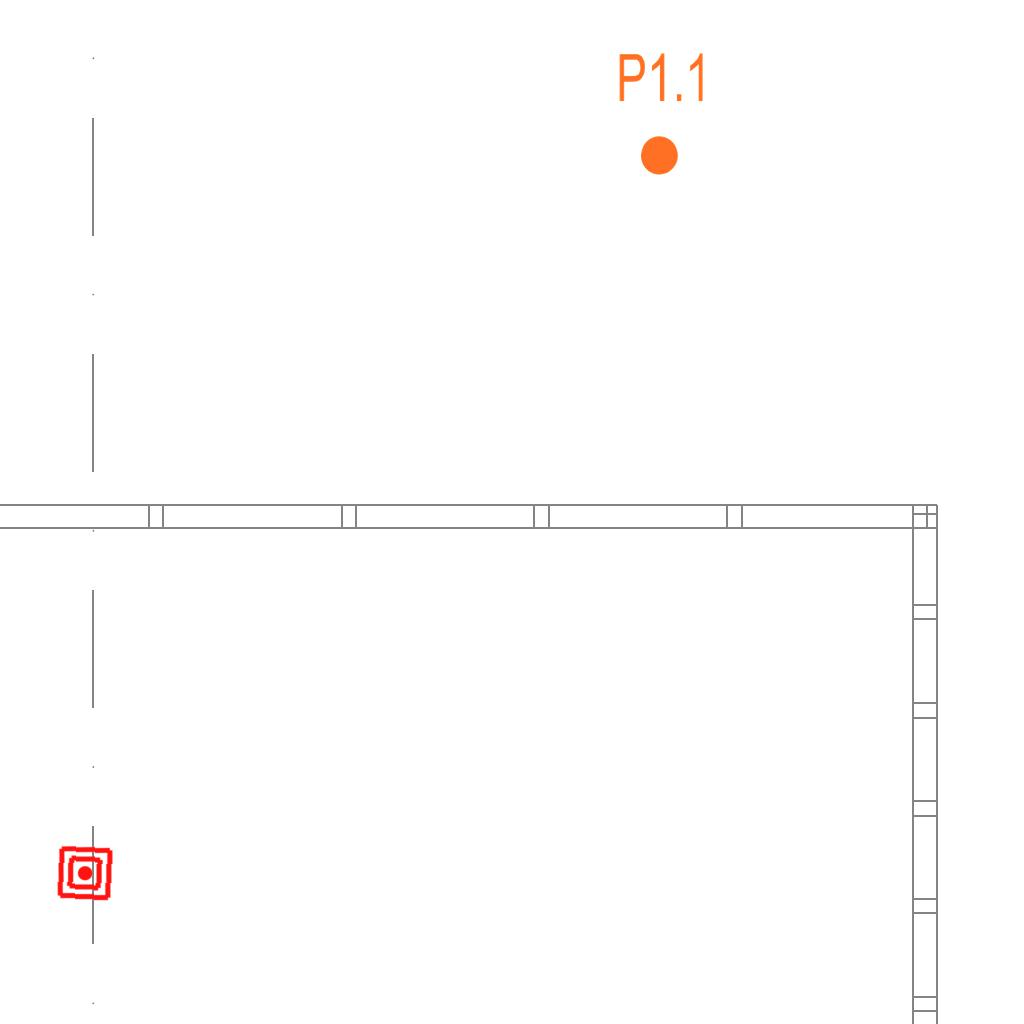Downlight_LED_Einbauleuchten_Flur: (616, 50, 709, 178)
NAM-Nichtautomatischer_Melder: (55, 843, 115, 903)
